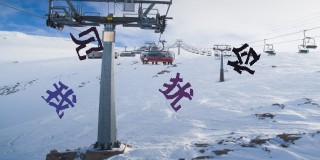怜: (227, 43, 260, 75)
我: (40, 81, 77, 119)
犹: (158, 72, 194, 112)
见: (70, 26, 103, 60)
